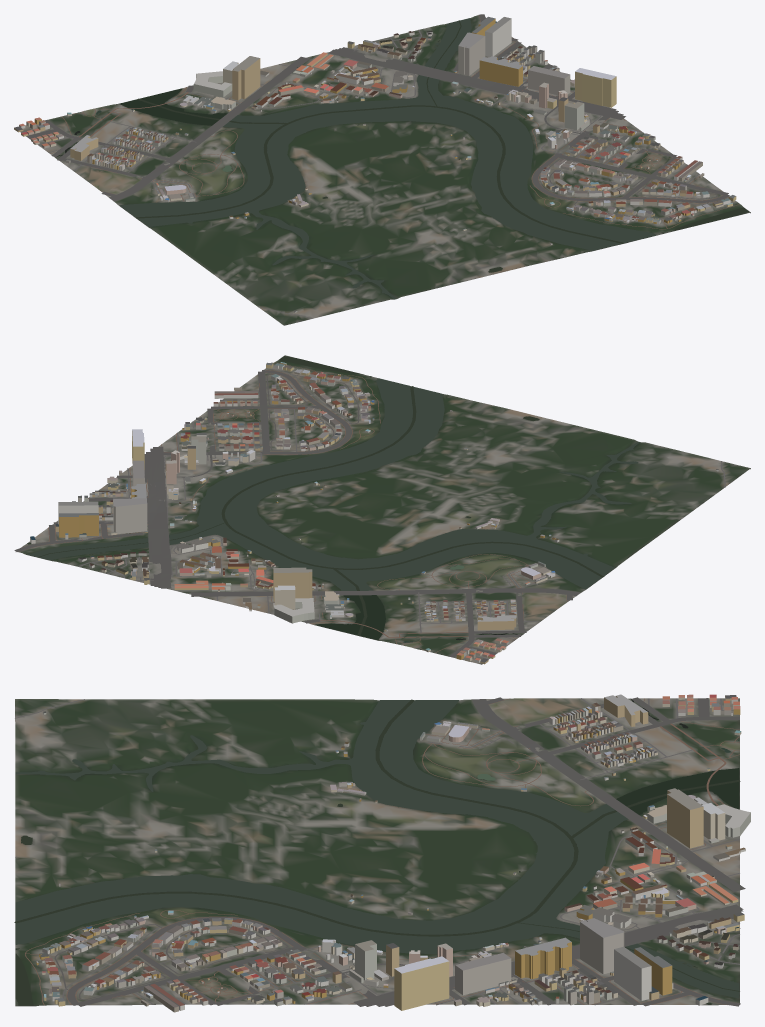
The picture shows the model from 3 angles, top to bottom: view 1: azimuth 30°, elevation 25°; view 2: azimuth 150°, elevation 25°; view 3: azimuth 270°, elevation 25°; orthographic projection. The views are drawn at different scales.
Parts seen in each view (by area): view 1: ground, water, buildings, roads; view 2: ground, water, buildings, roads; view 3: ground, water, buildings, roads.
Part boxes in pixels (left/top/right/bottom): ground: left=20, top=15, right=750, bottom=325; water: left=55, top=18, right=748, bottom=299; buildings: left=14, top=16, right=736, bottom=312; roads: left=21, top=14, right=739, bottom=318; ground: left=15, top=355, right=750, bottom=664; water: left=27, top=356, right=640, bottom=648; buildings: left=30, top=362, right=718, bottom=664; roads: left=14, top=362, right=725, bottom=659; ground: left=15, top=698, right=739, bottom=1006; water: left=14, top=698, right=740, bottom=1005; buildings: left=36, top=694, right=750, bottom=1012; roads: left=15, top=697, right=745, bottom=1006.
Size of the model in its own units: 1440 by 86.94 by 1424.
